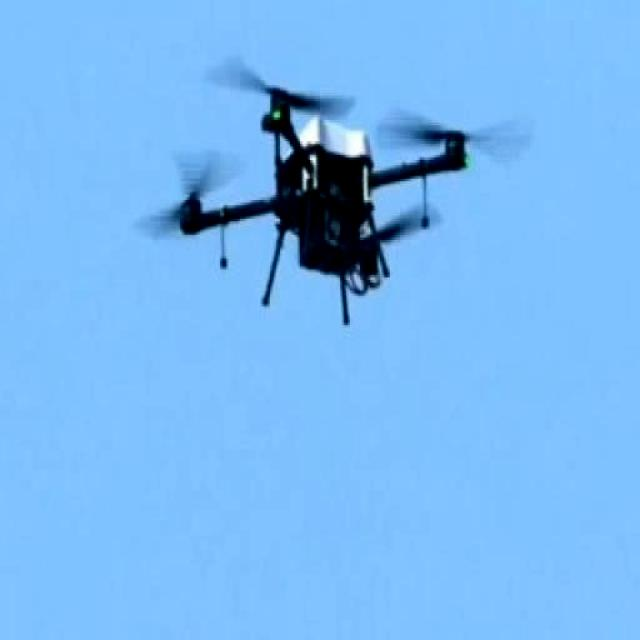bird: (156, 51, 512, 332)
